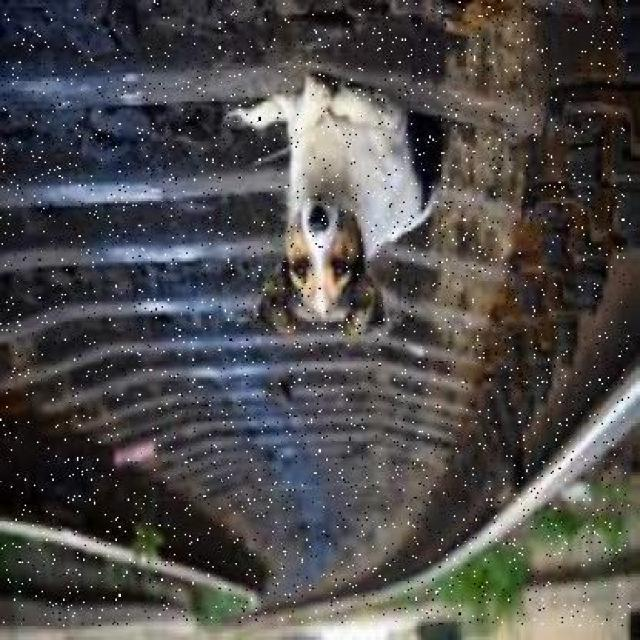danger: (246, 76, 457, 338)
rail: (0, 0, 631, 626)
